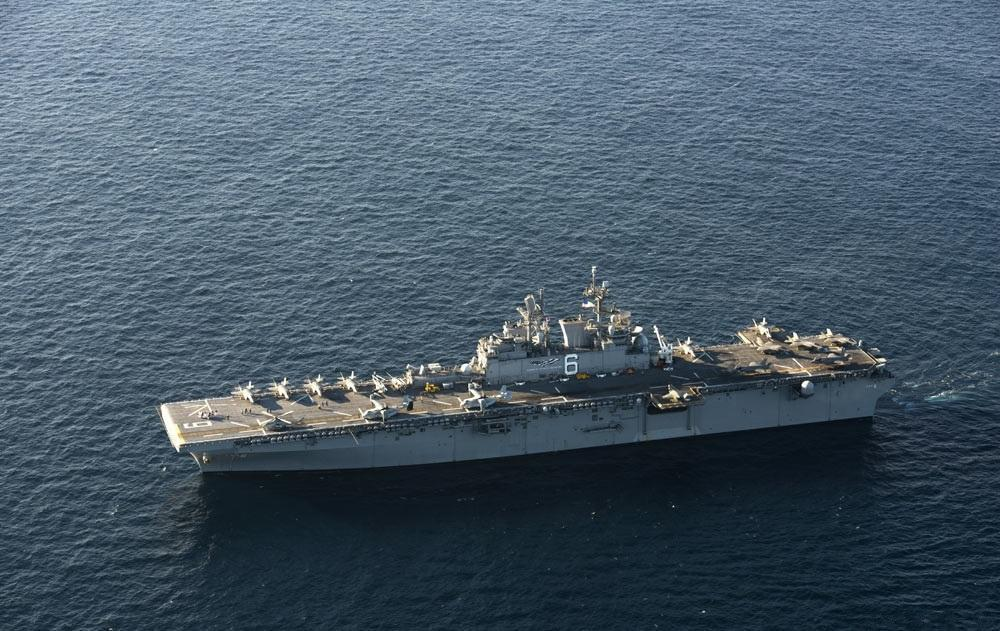warship: (159, 259, 890, 476)
